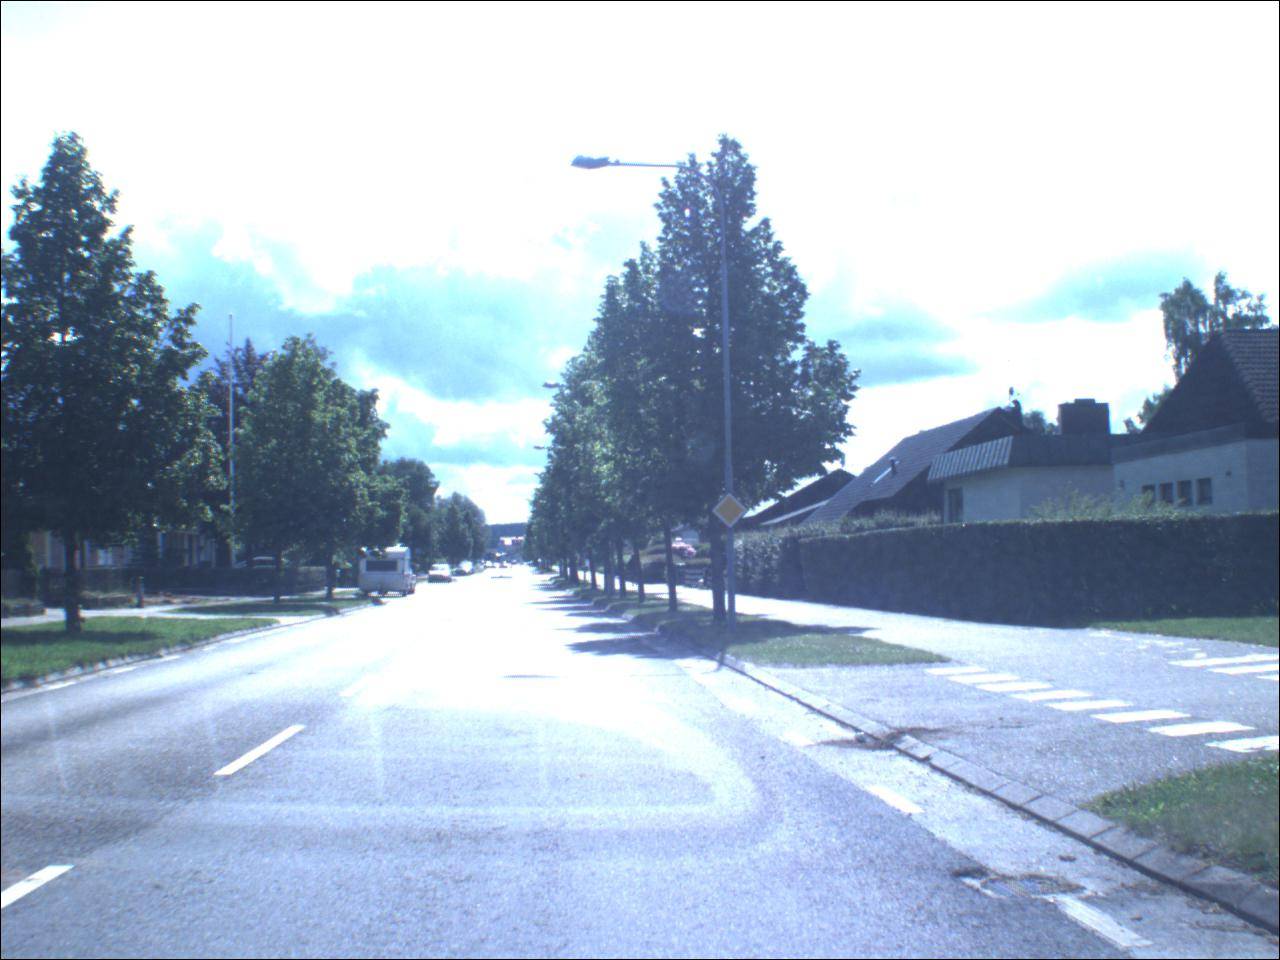PRIORITY_ROAD: (713, 493, 750, 532)
